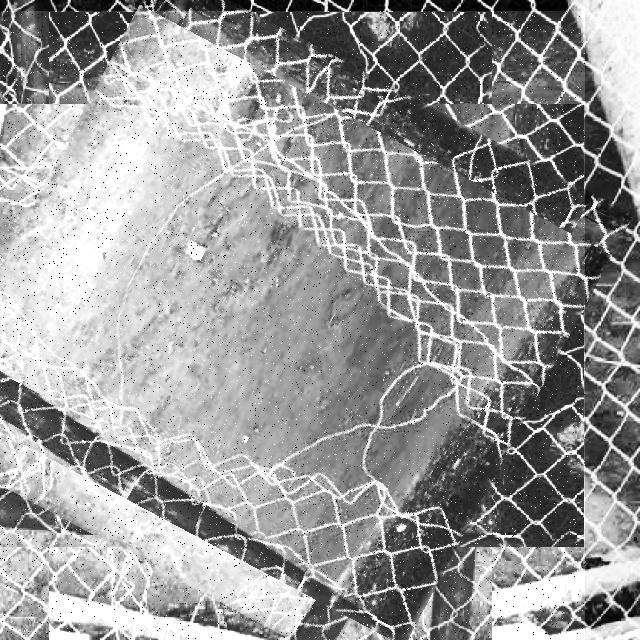anomaly-fence: (0, 11, 585, 640)
